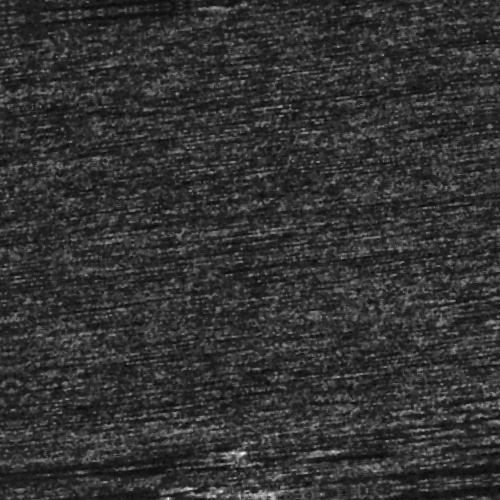object: (205, 439, 246, 456), (189, 2, 262, 7), (205, 489, 268, 494), (129, 475, 170, 480), (194, 455, 225, 460)
shadow: (14, 439, 225, 456), (10, 2, 226, 7), (24, 489, 236, 494), (0, 455, 209, 460), (0, 475, 149, 480), (453, 476, 500, 485)
